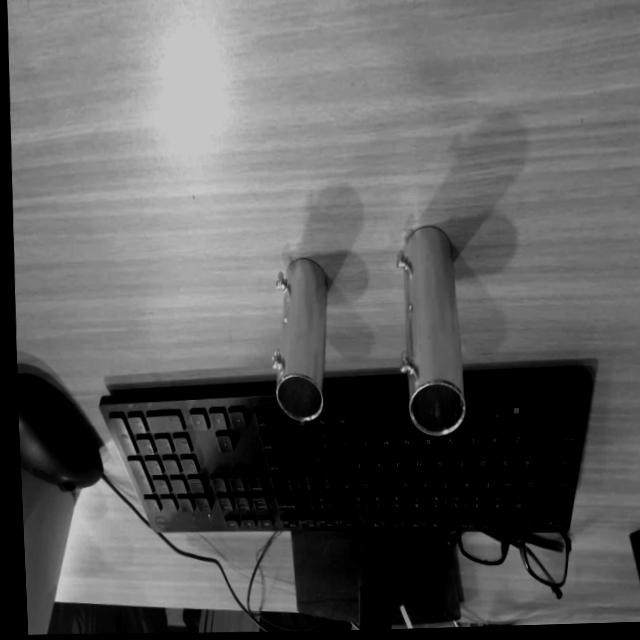Co_Lon: (386, 223, 468, 437)
Co_Nho: (268, 256, 328, 421)
